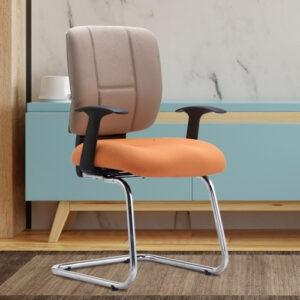chair: (19, 16, 289, 280)
